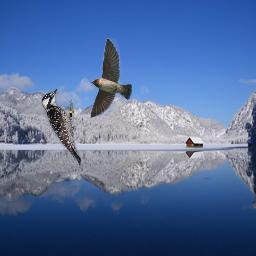Swallow: (90, 38, 132, 118)
Woodpecker: (41, 88, 81, 166)
